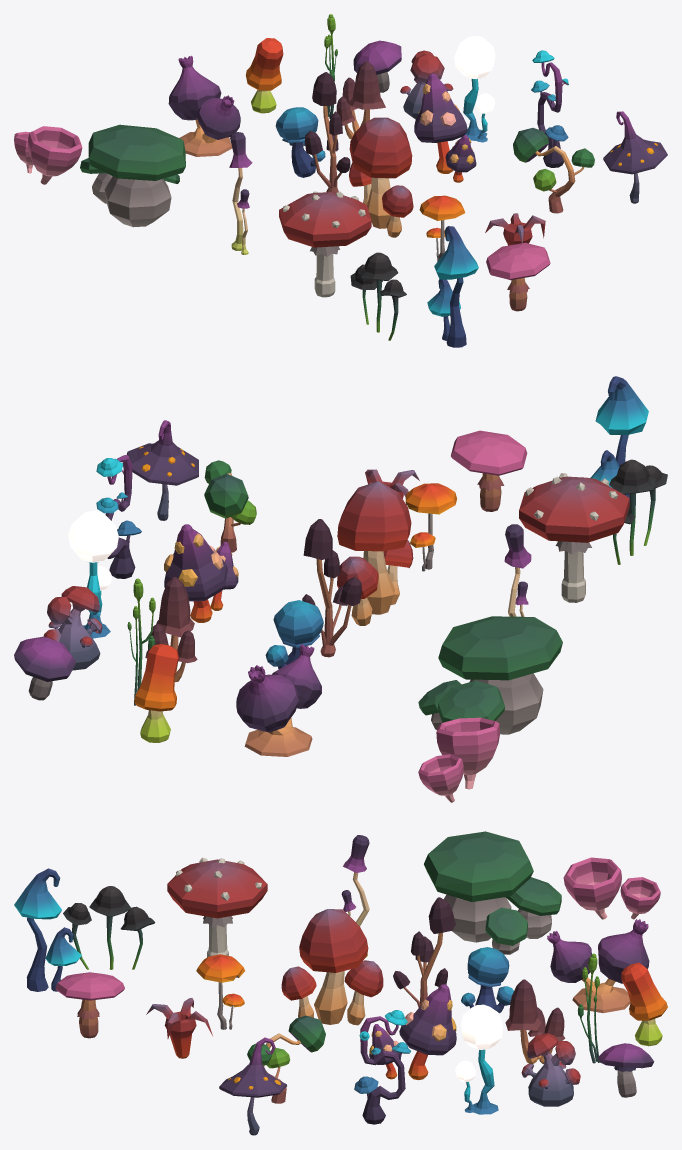
File: 低面卡通蘑菇.fbx
The picture shows the model from 3 angles, top to bottom: view 1: azimuth 30°, elevation 25°; view 2: azimuth 150°, elevation 25°; view 3: azimuth 270°, elevation 25°; orthographic projection. The views are drawn at different scales.
Visible parts, largest first — view 1: Mushroom_002_Base_Material_0, Mushroom_007_Base_Material_0, Mushroom_022_Base_Material_0, Mushroom_Base_Material_0, Mushroom_021_Base_Material_0, Mushroom_020_Base_Material_0, Mushroom_010_Base_Material_0, Mushroom_009_Base_Material_0, Mushroom_016_Base_Material_0, Mushroom_001_Base_Material_0, Mushroom_013_Base_Material_0, Mushroom_003_Base_Material_0 (+17 smaller); view 2: Mushroom_002_Base_Material_0, Mushroom_007_Base_Material_0, Mushroom_022_Base_Material_0, Mushroom_Base_Material_0, Mushroom_021_Base_Material_0, Mushroom_010_Base_Material_0, Mushroom_009_Base_Material_0, Mushroom_019_Base_Material_0, Mushroom_003_Base_Material_0, Mushroom_016_Base_Material_0, Mushroom_013_Base_Material_0, Mushroom_020_Base_Material_0 (+16 smaller); view 3: Mushroom_002_Base_Material_0, Mushroom_007_Base_Material_0, Mushroom_022_Base_Material_0, Mushroom_Base_Material_0, Mushroom_021_Base_Material_0, Mushroom_019_Base_Material_0, Mushroom_018_Base_Material_0, Mushroom_001_Base_Material_0, Mushroom_013_Base_Material_0, Mushroom_003_Base_Material_0, Mushroom_009_Base_Material_0, Mushroom_010_Base_Material_0 (+22 smaller).
Part boxes in pixels (x1,y1,x2,y2): Mushroom_002_Base_Material_0: (88,124,185,227); Mushroom_007_Base_Material_0: (279,191,371,297); Mushroom_022_Base_Material_0: (168,55,240,156); Mushroom_Base_Material_0: (349,117,412,228); Mushroom_021_Base_Material_0: (414,73,467,173); Mushroom_020_Base_Material_0: (513,127,594,213); Mushroom_010_Base_Material_0: (486,242,550,311); Mushroom_009_Base_Material_0: (305,72,350,192); Mushroom_016_Base_Material_0: (603,111,667,203); Mushroom_001_Base_Material_0: (434,226,478,347); Mushroom_013_Base_Material_0: (27,126,82,184); Mushroom_003_Base_Material_0: (245,38,283,113); Mushroom_002_Base_Material_0: (438,616,562,734); Mushroom_007_Base_Material_0: (519,473,629,602); Mushroom_022_Base_Material_0: (236,644,321,756); Mushroom_Base_Material_0: (337,481,411,614); Mushroom_021_Base_Material_0: (164,524,227,622); Mushroom_010_Base_Material_0: (451,430,527,511); Mushroom_009_Base_Material_0: (302,519,361,657); Mushroom_019_Base_Material_0: (43,586,102,670); Mushroom_003_Base_Material_0: (134,644,178,742); Mushroom_016_Base_Material_0: (127,420,198,520); Mushroom_013_Base_Material_0: (436,717,500,789); Mushroom_020_Base_Material_0: (204,460,256,552); Mushroom_002_Base_Material_0: (424,831,533,942); Mushroom_007_Base_Material_0: (167,857,267,957); Mushroom_022_Base_Material_0: (547,919,649,1013); Mushroom_Base_Material_0: (299,909,368,1024); Mushroom_021_Base_Material_0: (399,984,456,1080); Mushroom_019_Base_Material_0: (521,1033,580,1106); Mushroom_018_Base_Material_0: (354,1010,410,1124); Mushroom_001_Base_Material_0: (14,868,61,991); Mushroom_013_Base_Material_0: (563,857,621,919); Mushroom_003_Base_Material_0: (621,962,667,1046); Mushroom_009_Base_Material_0: (393,897,455,1007); Mushroom_010_Base_Material_0: (55,972,124,1038).
Bounding box in the file's own units: 3237 × 796 × 3728.
39 materials, 37 textured.
